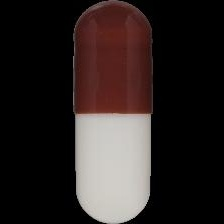68084-743: (0, 0, 224, 224)
